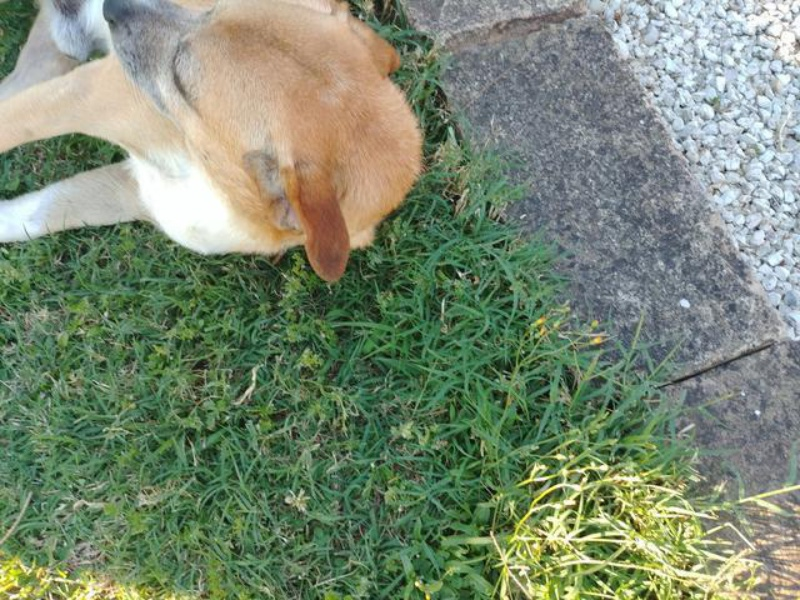puppy: (3, 1, 442, 278)
